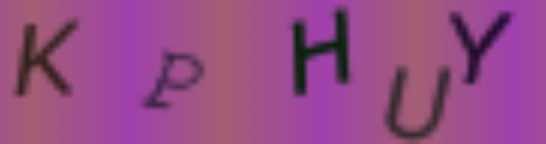H: (288, 6, 355, 101)
K: (9, 18, 84, 101)
P: (142, 46, 206, 113)
U: (379, 64, 457, 144)
Y: (446, 5, 517, 90)
